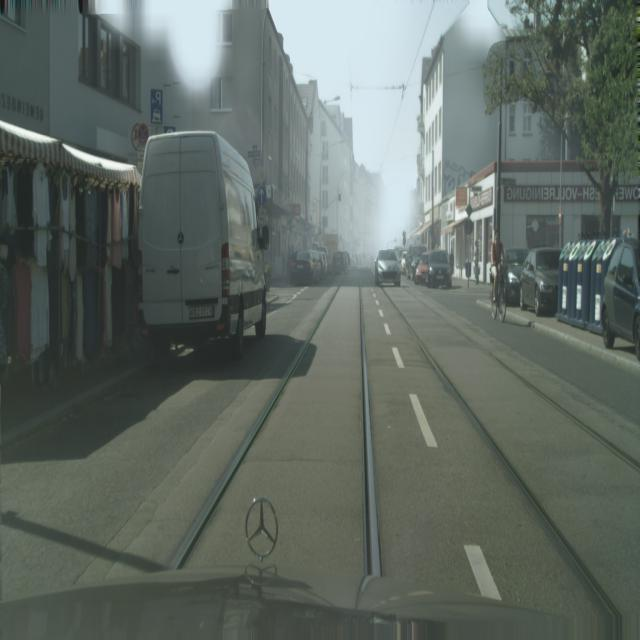car: (491, 261, 507, 322)
motorcycle: (136, 130, 268, 363)
person: (490, 228, 507, 317)
rider: (137, 129, 268, 364)
truck: (600, 236, 640, 357), (519, 246, 560, 316), (501, 246, 529, 305), (374, 249, 401, 287), (427, 249, 452, 289), (290, 249, 314, 285), (332, 251, 349, 274), (414, 258, 429, 284), (311, 251, 323, 281), (317, 248, 328, 277)
